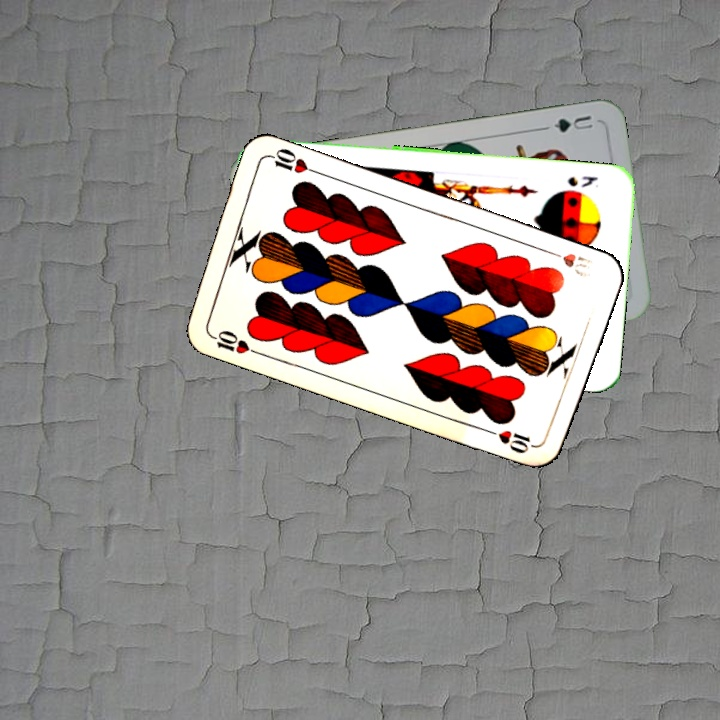GU: (550, 111, 596, 135)
H10: (542, 246, 596, 281), (205, 326, 262, 358)
SK: (564, 172, 600, 190)
